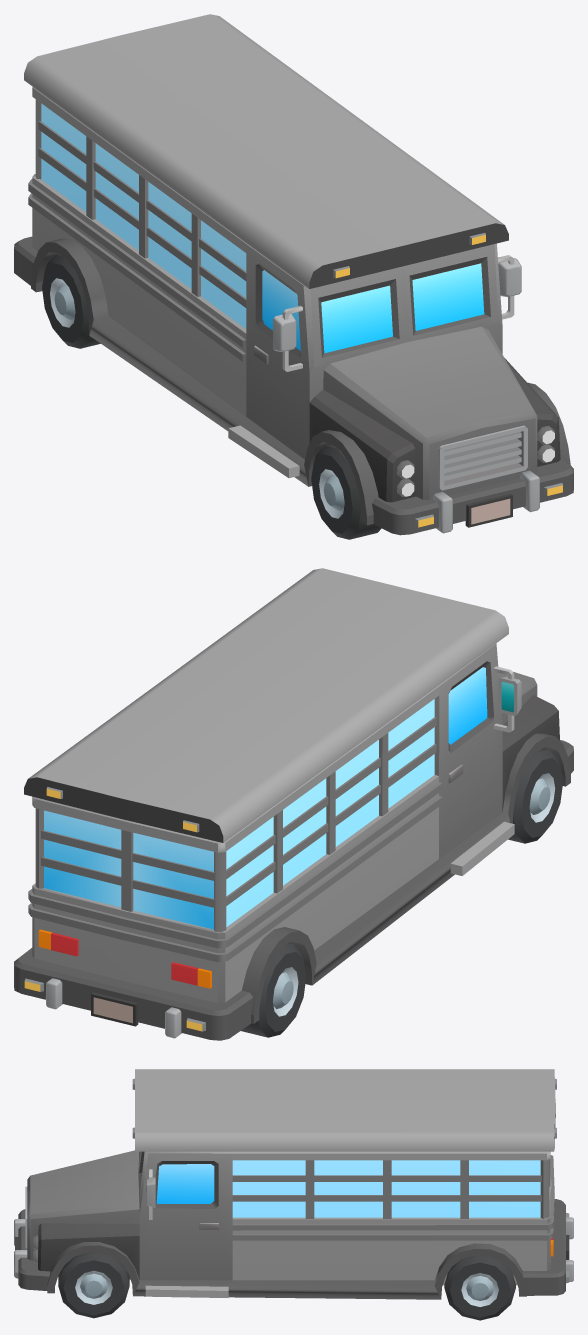
File: Police_Bus_01.glb
3 views of the same model, one above another, from view 1: azimuth 30°, elevation 25°; view 2: azimuth 150°, elevation 25°; view 3: azimuth 270°, elevation 25° (orthographic). The views are drawn at different scales.
Visible parts, largest first — view 1: Police_Bus_01, Wheel_193, Wheel_194; view 2: Police_Bus_01, Wheel_193, Wheel_194; view 3: Police_Bus_01, Wheel_195, Wheel_196.
Part boxes in pixels (x1,y1,x2,y2): Police_Bus_01: [14, 14, 573, 535]; Wheel_193: [311, 444, 381, 539]; Wheel_194: [42, 254, 100, 348]; Police_Bus_01: [14, 568, 573, 1040]; Wheel_193: [508, 748, 562, 843]; Wheel_194: [241, 942, 306, 1037]; Police_Bus_01: [14, 1069, 573, 1299]; Wheel_195: [58, 1252, 129, 1318]; Wheel_196: [444, 1256, 515, 1320].
Size of the model in its own units: 2.97 by 2.88 by 8.04.
Materials: 2 (2 with a texture image).
